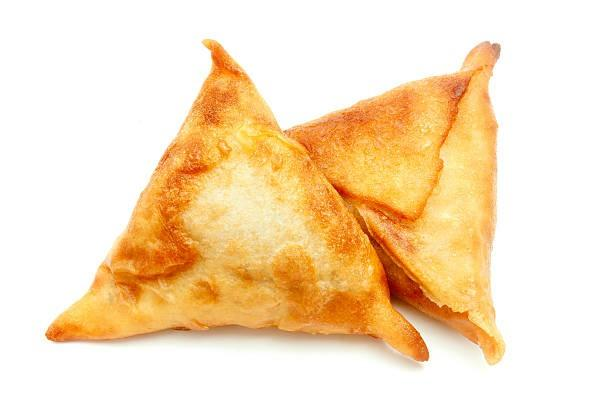Samosa: (44, 37, 430, 365), (283, 42, 505, 364)
